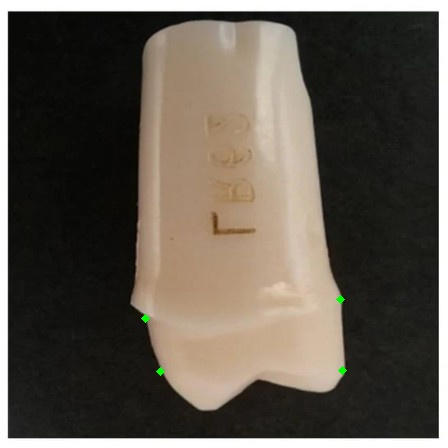coin_1: (145, 318, 165, 338)
coin_2: (160, 371, 180, 391)
coin_3: (340, 299, 360, 319)
coin_4: (342, 370, 362, 390)
